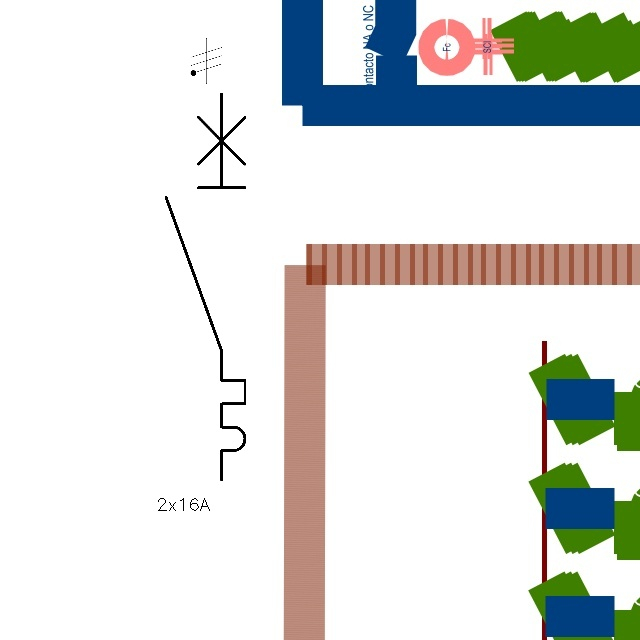interruptor_termomagnetico: (156, 83, 255, 489)
